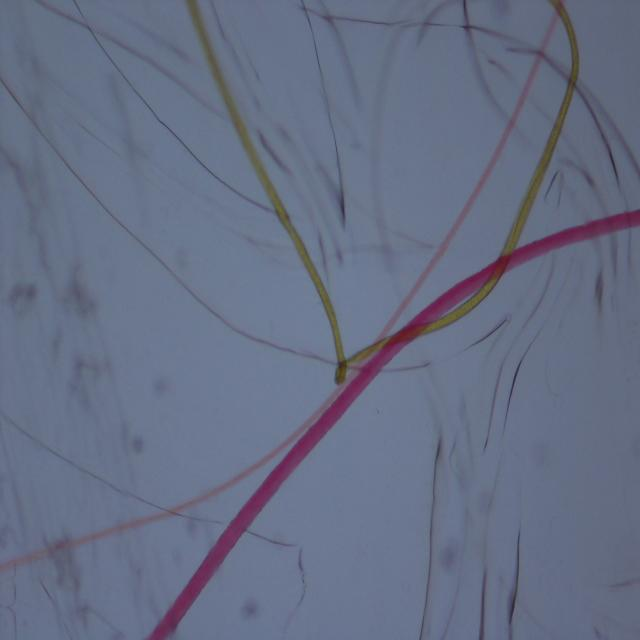Background material: (0, 2, 214, 320), (419, 392, 526, 640), (151, 258, 322, 380), (284, 8, 366, 245), (476, 266, 568, 422), (47, 270, 113, 423), (0, 564, 120, 636), (242, 521, 312, 626), (438, 0, 509, 101), (313, 218, 416, 278), (581, 254, 612, 336), (601, 552, 640, 602), (7, 270, 38, 328), (145, 362, 173, 406), (182, 509, 206, 551), (123, 420, 145, 462)
Microfibre: (1, 6, 564, 571), (148, 209, 640, 636), (180, 1, 580, 382)
